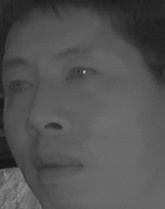eye: (62, 60, 99, 85), (3, 75, 35, 96)
mouth: (29, 151, 84, 184)
